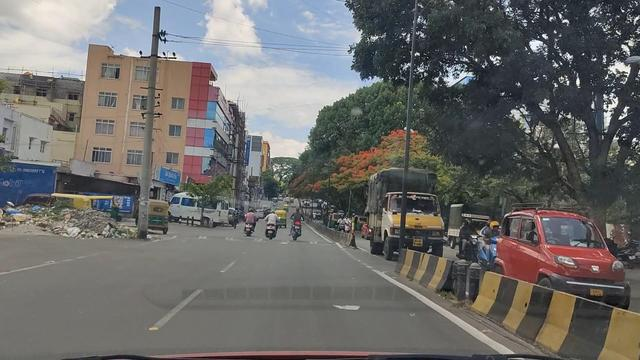LMV: (292, 206, 306, 244), (242, 208, 258, 241), (264, 209, 279, 243)
